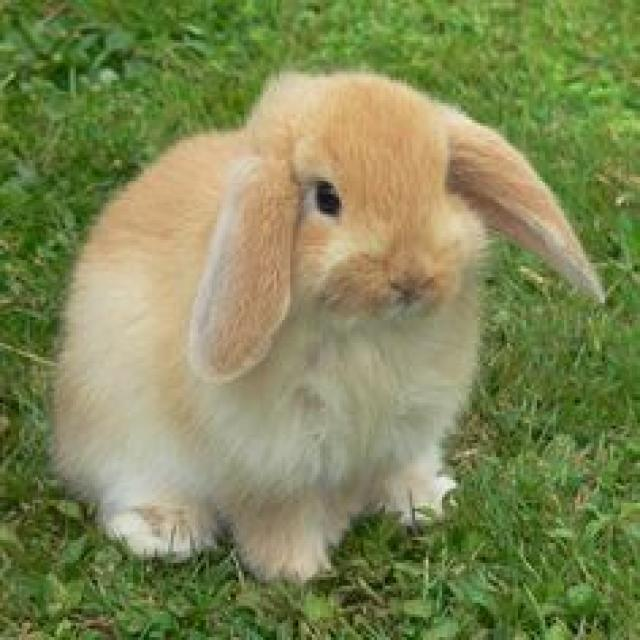Herbivorous: (49, 71, 607, 589)
